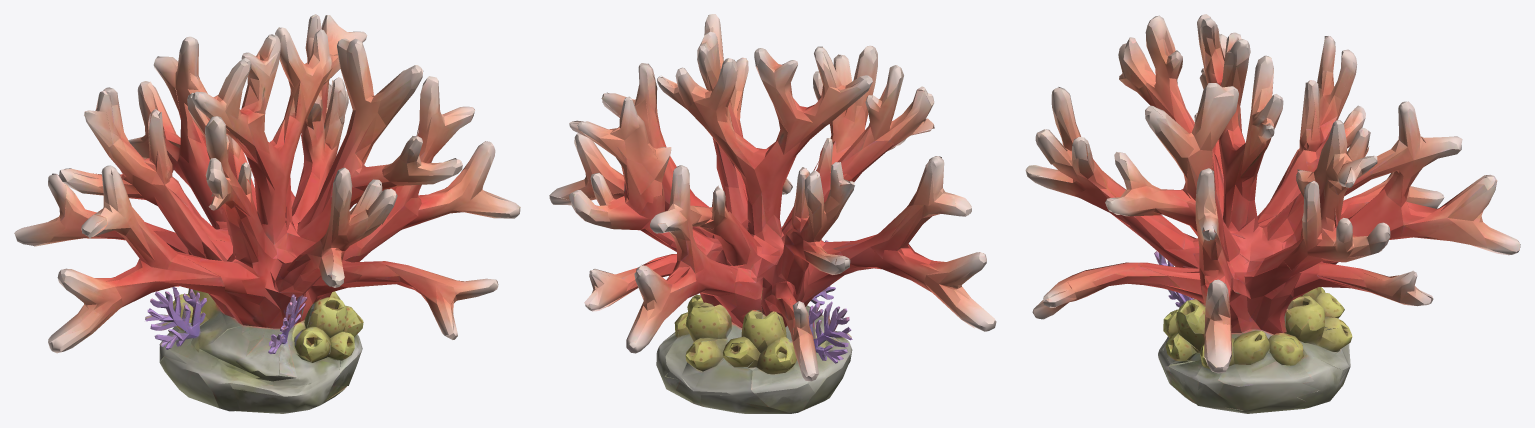
The model's file is east_coral.glb.
3 renders of one model, left to right at view 1: azimuth 30°, elevation 25°; view 2: azimuth 150°, elevation 25°; view 3: azimuth 270°, elevation 25°, orthographic. The views are drawn at different scales.
Parts seen in each view (by area): view 1: Mesh_0; view 2: Mesh_0; view 3: Mesh_0.
Boxes of the visible parts, bbox=[...] form: Mesh_0: bbox=[14, 14, 520, 413]; Mesh_0: bbox=[549, 14, 996, 413]; Mesh_0: bbox=[1025, 14, 1520, 413].
Bounding box in the file's own units: 5.06 × 3.6 × 4.71.
Materials: 1 (1 with a texture image).
